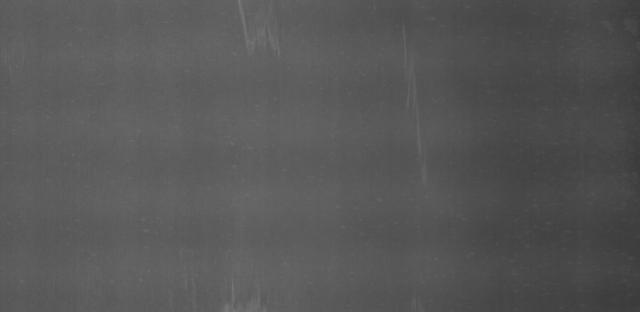silk_spot: (388, 45, 445, 204), (222, 8, 314, 58)
